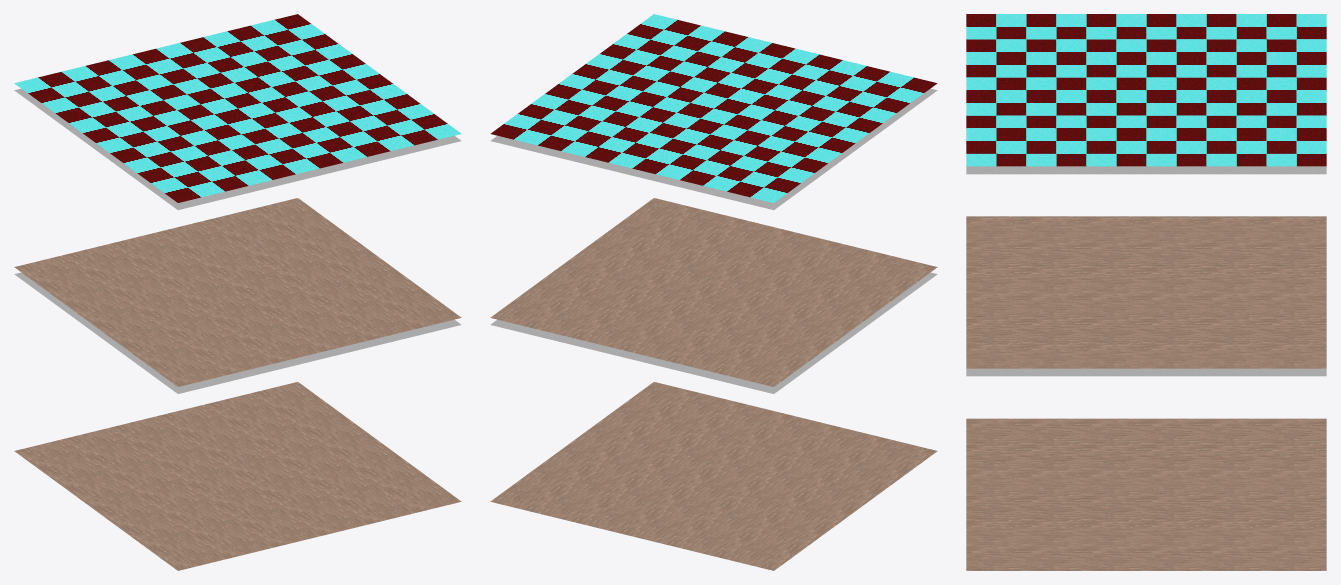
Rendered from SM_Floor_1-2-Attic_600.fbx.
3 renders of one model, left to right at view 1: azimuth 30°, elevation 25°; view 2: azimuth 150°, elevation 25°; view 3: azimuth 270°, elevation 25°, orthographic. The views are drawn at different scales.
Parts seen in each view (by area): view 1: SM_Floor_1-2-Attic_600; view 2: SM_Floor_1-2-Attic_600; view 3: SM_Floor_1-2-Attic_600.
Boxes of the visible parts, <box> form: SM_Floor_1-2-Attic_600: <box>14,14,461,570</box>; SM_Floor_1-2-Attic_600: <box>490,14,937,570</box>; SM_Floor_1-2-Attic_600: <box>966,14,1326,570</box>.
Bounding box in the file's own units: 420 × 420 × 520.
3 materials, 3 textured.
